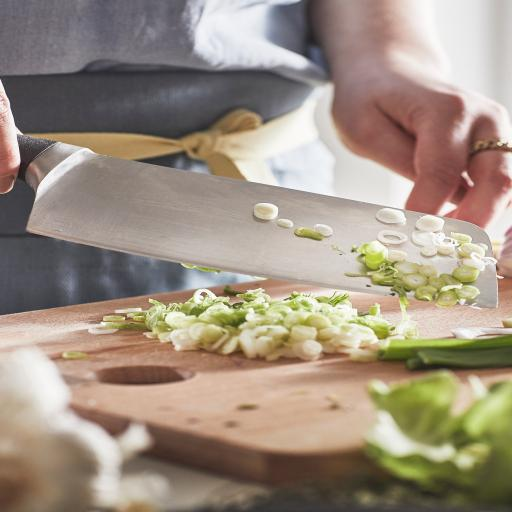knife: (24, 136, 496, 305)
